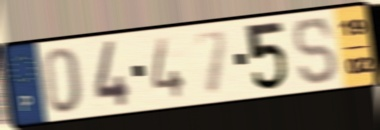0: (40, 45, 85, 116)
4: (92, 38, 133, 111), (150, 34, 188, 101)
5: (242, 18, 292, 92)
7: (192, 27, 230, 98)
S: (291, 15, 341, 88)
